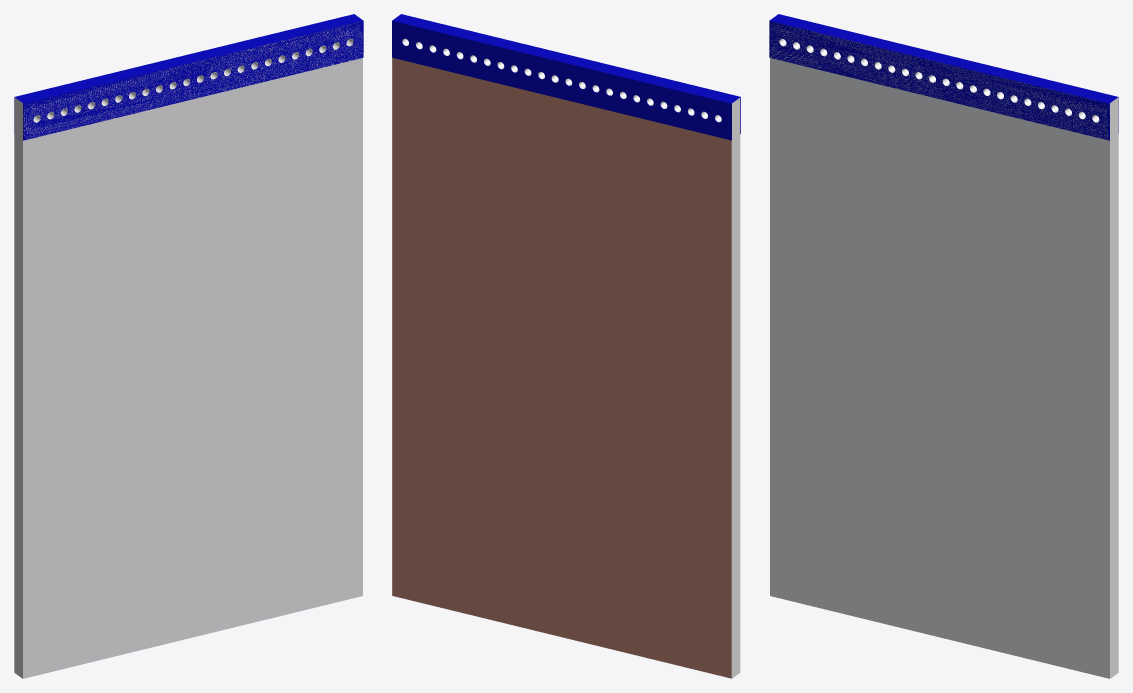
The picture shows the model from 3 angles, left to right: view 1: azimuth 30°, elevation 25°; view 2: azimuth 150°, elevation 25°; view 3: azimuth 330°, elevation 25°; orthographic projection.
Parts seen in each view (by area): view 1: notepad; view 2: notepad; view 3: notepad.
Boxes of the visible parts, <box> form: notepad: <box>14,14,363,678</box>; notepad: <box>392,14,740,678</box>; notepad: <box>769,14,1118,678</box>.
Size of the model in its own units: 226 by 366 by 10.63.
